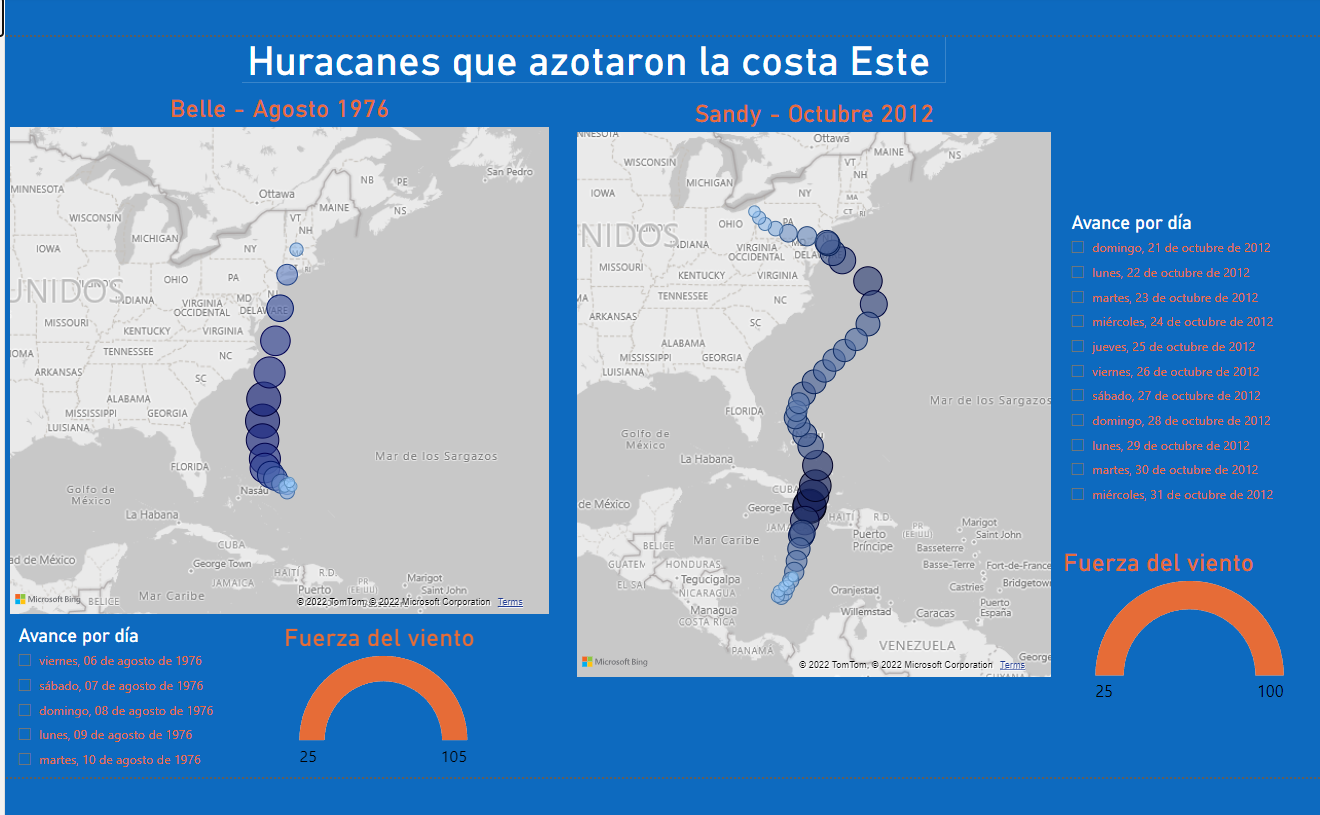

The page's visual inventory and layout, read from the dashboard file:
{"tool":"powerbi","page":{"name":"Huracanes  que azotaron la cosnta Neoyorkina ","canvas":[1280,720],"ordinal":0},"visuals":[{"type":"map","title":"Belle - Agosto 1976","fields":{"Y":["belle.Latitude"],"X":["belle.Longitude"],"Size":["belle.Wind Strength"]},"box":[0,55,533.8,510.7],"z":0},{"type":"map","title":" Sandy - Octubre 2012","fields":{"Y":["sandy.Latitude"],"X":["sandy.Longitude"],"Size":["sandy.Wind Strength"]},"box":[551.5,60.3,470.8,567.5],"z":1000},{"type":"textbox","title":"Huracanes que azotaron la costa Este","box":[230.5,0,683.6,44.3],"z":2000},{"type":"slicer","fields":{"Values":["belle.Date"]},"box":[0,565.7,256.3,154.3],"z":3000},{"type":"slicer","fields":{"Values":["sandy.Date"]},"box":[1024.1,164,256.3,304.1],"z":4000},{"type":"gauge","title":"Fuerza del viento","fields":{"MinValue":["sandy.Wind Strength"],"MaxValue":["Sum(sandy.Wind Strength)1"],"Y":["Sum(sandy.Wind Strength)2"]},"box":[1024.2,497,255.8,159.5],"z":5000},{"type":"gauge","title":"Fuerza del viento","fields":{"MaxValue":["Sum(belle.Wind Strength)1"],"MinValue":["belle.Wind Strength"],"Y":["belle.Wind Strength"]},"box":[266.5,570,203.3,149.8],"z":6000}]}

Visuals, with their boxes in screenshot pixels (x1, y1, x2, y2):
"Belle - Agosto 1976" map: bbox=[0, 127, 563, 665]
" Sandy - Octubre 2012" map: bbox=[581, 132, 1078, 731]
"Huracanes que azotaron la costa Este" textbox: bbox=[243, 69, 964, 115]
slicer - belle.Date: bbox=[0, 665, 270, 814]
slicer - sandy.Date: bbox=[1080, 242, 1319, 562]
"Fuerza del viento" gauge: bbox=[1080, 593, 1319, 761]
"Fuerza del viento" gauge: bbox=[281, 670, 495, 814]
